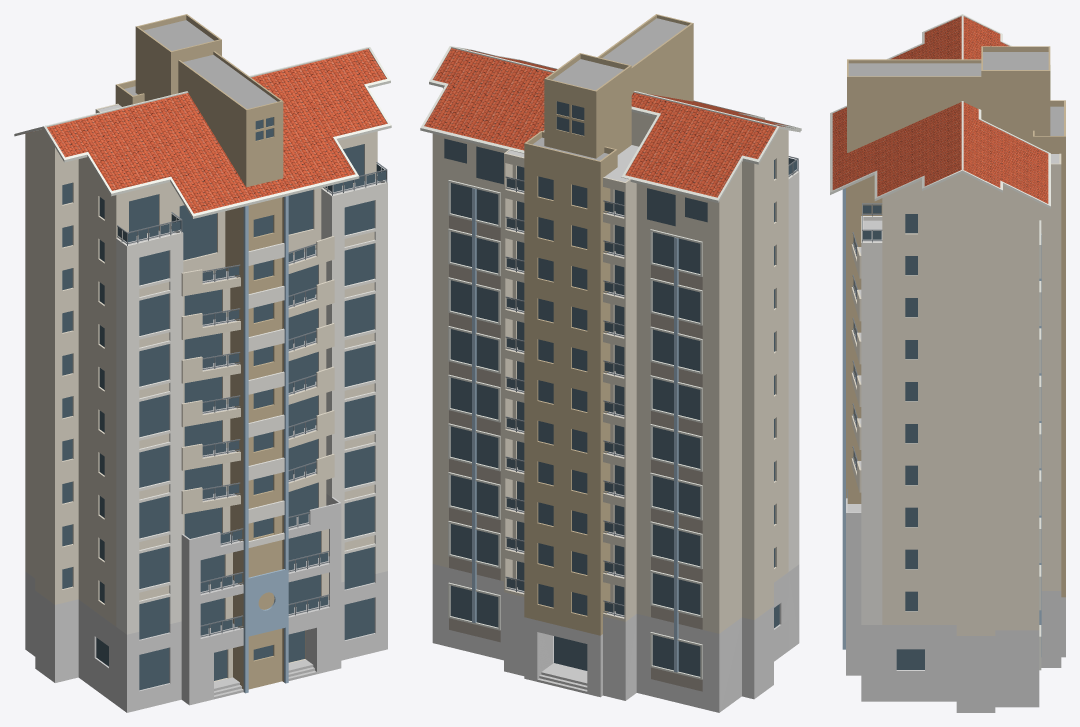
3 renders of one model, left to right at view 1: azimuth 30°, elevation 25°; view 2: azimuth 150°, elevation 25°; view 3: azimuth 270°, elevation 25°, orthographic. The views are drawn at different scales.
Visible parts, largest first — view 1: 住宅楼31; view 2: 住宅楼31; view 3: 住宅楼31.
Boxes of the visible parts, box(x1,y1,x2,y2) form: 住宅楼31: box(14, 14, 391, 712); 住宅楼31: box(420, 14, 801, 712); 住宅楼31: box(830, 14, 1065, 712).
Bounding box in the file's own units: 20.43 × 35.32 × 13.01.
Materials: 14 (1 with a texture image).
